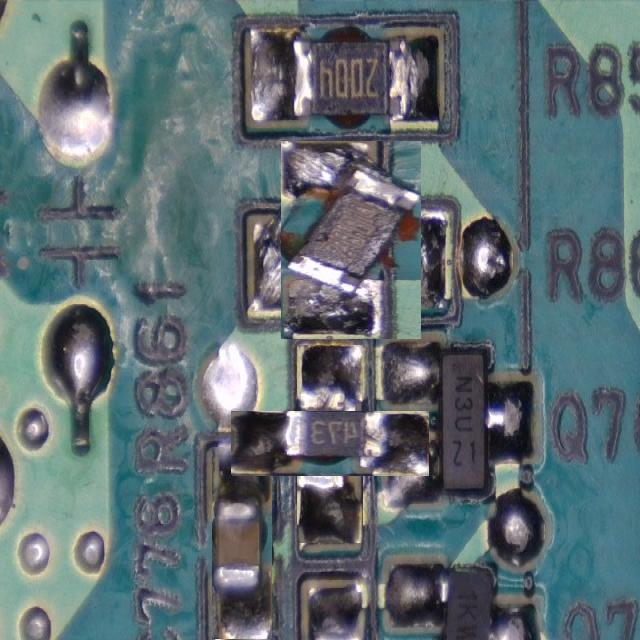Incorrect_installation: (280, 141, 421, 339), (231, 412, 428, 475), (214, 447, 272, 640)
